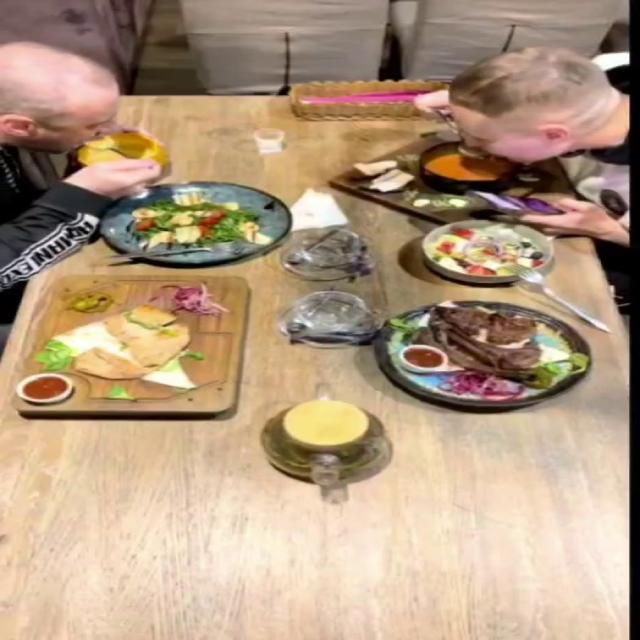alcohol: (244, 124, 302, 163)
meat: (378, 298, 598, 404)
salat: (97, 182, 290, 265), (421, 219, 556, 284)
soup: (74, 132, 168, 172), (426, 153, 507, 180)
tea: (292, 395, 377, 443)
